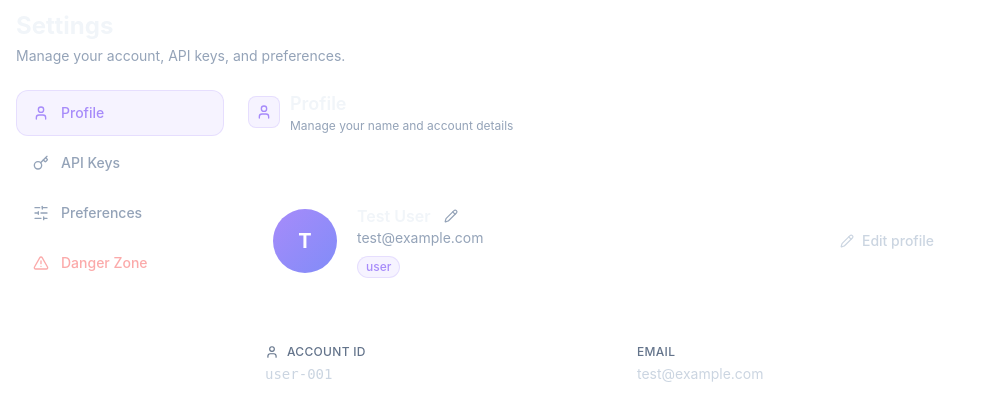
Test case: Danger Zone section › renders the Delete account button
This screenshot has width=993, height=399.
Click the button "Danger Zone" at x=120, y=263, box [16, 240, 224, 286]
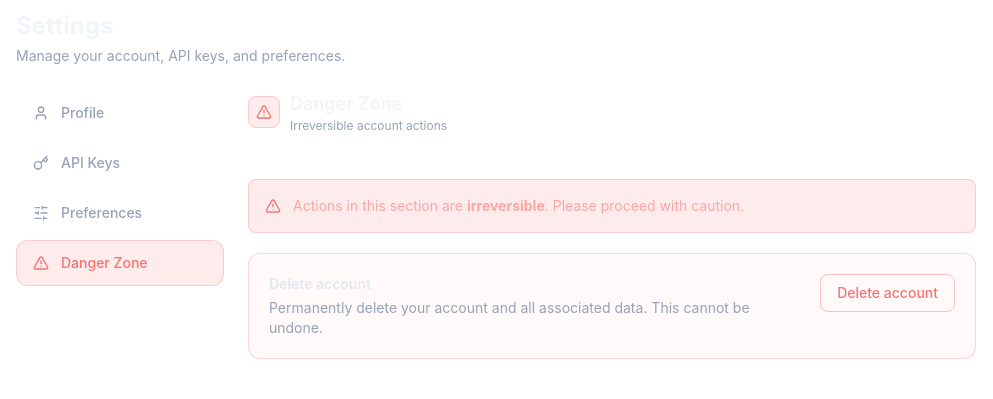
Expected: the button "Delete account" is shown, [820, 274, 955, 312]
